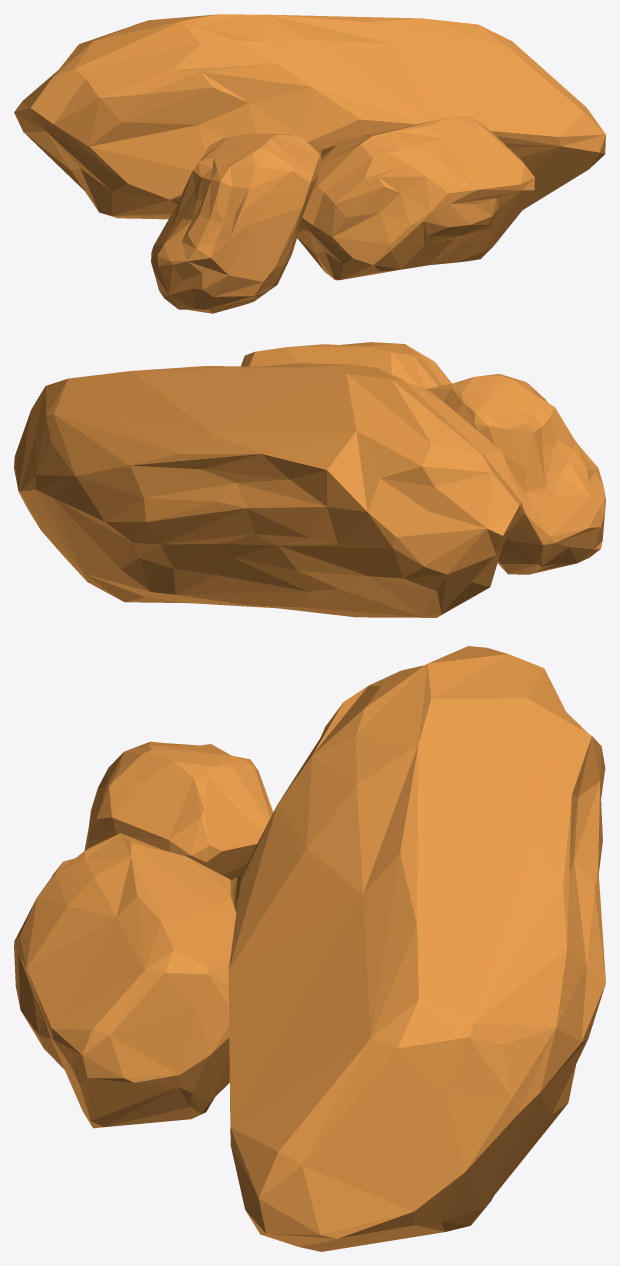
Rendered from testrocks.fbx.
3 views of the same model, one above another, from view 1: azimuth 30°, elevation 25°; view 2: azimuth 150°, elevation 25°; view 3: azimuth 270°, elevation 25° (orthographic). The views are drawn at different scales.
Parts seen in each view (by area): view 1: pPlatonic3, pPlatonic1, pPlatonic2; view 2: pPlatonic3, pPlatonic2, pPlatonic1; view 3: pPlatonic3, pPlatonic1, pPlatonic2.
Part boxes in pixels (left/top/right/bottom): pPlatonic3: left=14, top=14, right=605, bottom=219; pPlatonic1: left=297, top=116, right=534, bottom=280; pPlatonic2: left=151, top=133, right=321, bottom=313; pPlatonic3: left=14, top=363, right=522, bottom=617; pPlatonic2: left=425, top=374, right=605, bottom=574; pPlatonic1: left=241, top=342, right=451, bottom=388; pPlatonic3: left=228, top=646, right=605, bottom=1251; pPlatonic1: left=14, top=833, right=236, bottom=1128; pPlatonic2: left=84, top=741, right=273, bottom=911.
Bounding box in the file's own units: 6.61 × 3.12 × 4.3.
